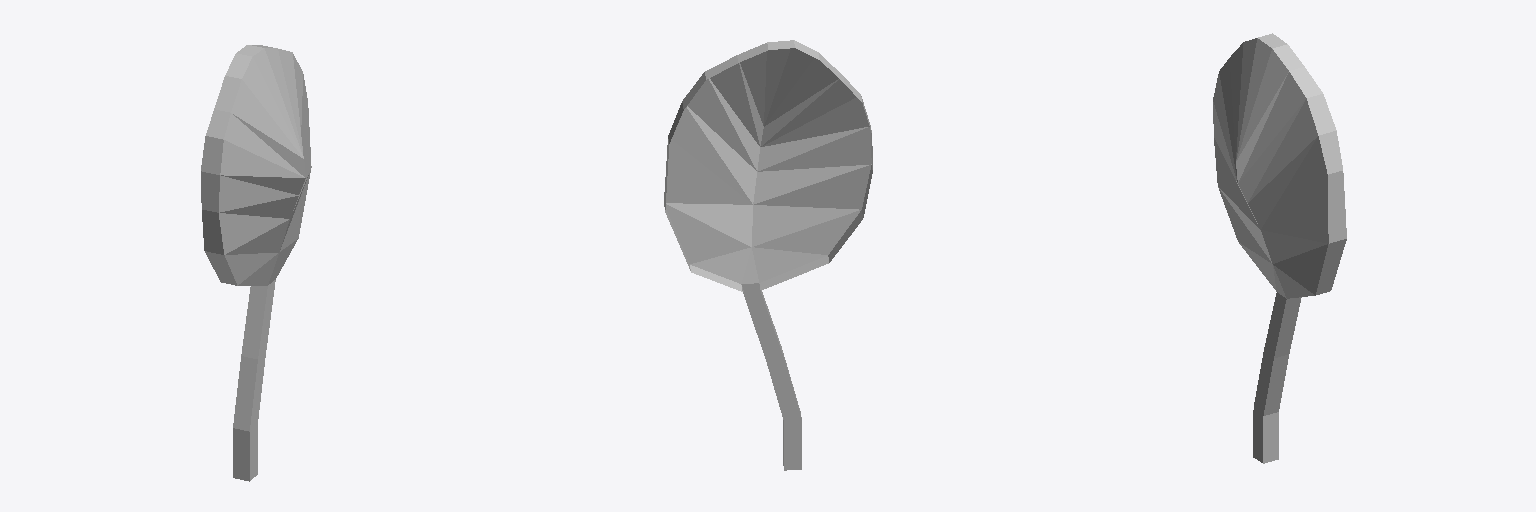
The model's file is arbre12.obj.
3 views of the same model, side by side, from view 1: azimuth 30°, elevation 25°; view 2: azimuth 150°, elevation 25°; view 3: azimuth 270°, elevation 25° (orthographic).
Bounding box in the file's own units: 0.6051 × 1.53 × 0.4402.